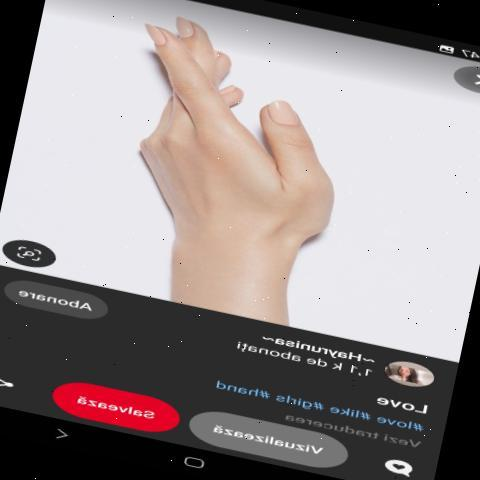Hands: (92, 2, 346, 280)
